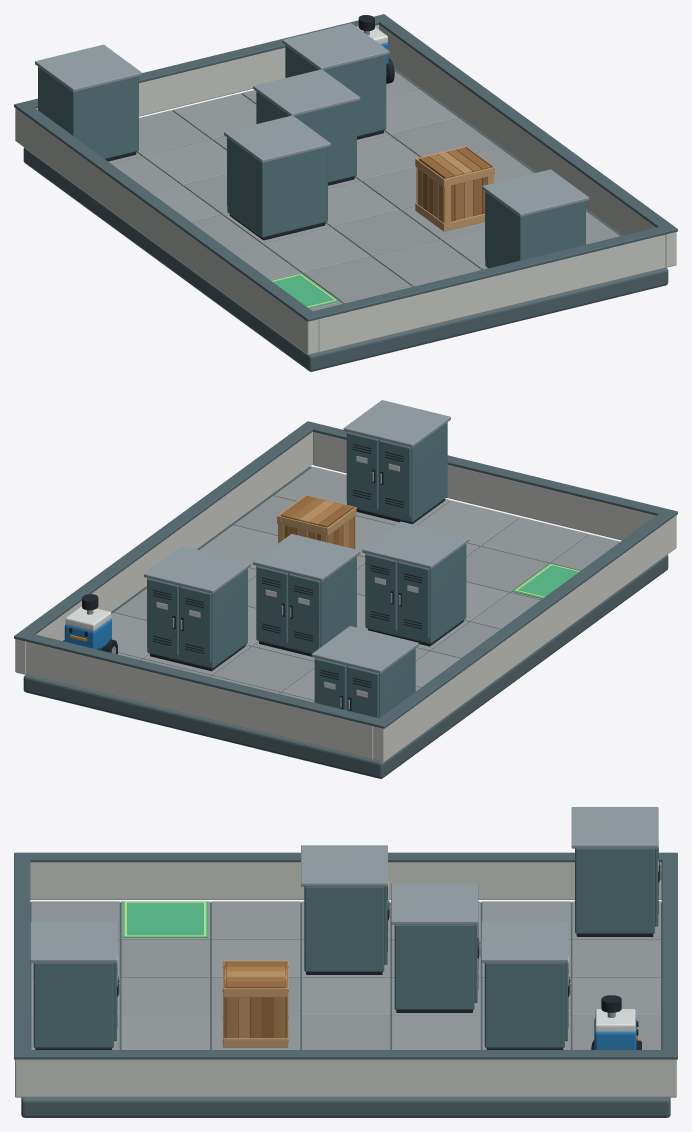
3 views of the same model, one above another, from view 1: azimuth 30°, elevation 25°; view 2: azimuth 150°, elevation 25°; view 3: azimuth 270°, elevation 25° (orthographic). The views are drawn at different scales.
Visible parts, largest first — view 1: Cutaway wall.002, Floor foundation, obstacle_1, Cutaway wall, obstacle_0, Cutaway wall.001, obstacle_3, obstacle_4, obstacle_2, crate, Cutaway wall.003, Wall coping (+26 smaller); view 2: Cutaway wall.003, Floor foundation, obstacle_3, obstacle_1, obstacle_4, obstacle_2, Cutaway wall, Cutaway wall.002, Cutaway wall.001, obstacle_0, Wall coping, Wall coping.001 (+21 smaller); view 3: Cutaway wall.001, Cutaway wall, Floor foundation, obstacle_2, obstacle_0, obstacle_4, obstacle_3, obstacle_1, Wall coping.001, crate, Wall coping, Tile_0_2 (+21 smaller).
Part boxes in pixels (x1,y1,x2,y2): Cutaway wall.002: (318,234,665,352); Floor foundation: (23,69,668,371); obstacle_1: (224,115,330,240); Cutaway wall: (15,108,318,354); obstacle_0: (35,44,142,161); Cutaway wall.001: (379,24,676,267); obstacle_3: (482,169,589,268); obstacle_4: (282,23,389,139); obstacle_2: (253,69,360,185); crate: (415,146,494,231); Cutaway wall.003: (36,25,378,116); Wall coping: (14,101,319,321); Cutaway wall.003: (26,641,373,759); Floor foundation: (23,466,668,778); obstacle_3: (343,400,450,524); obstacle_1: (362,521,469,646); obstacle_4: (144,546,251,671); obstacle_2: (253,534,360,656); Cutaway wall: (373,515,676,762); Cutaway wall.002: (313,432,655,540); Cutaway wall.001: (15,432,312,674); obstacle_0: (311,626,418,718); Wall coping: (372,508,677,728); Wall coping.001: (14,421,318,641); Cutaway wall.001: (15,1059,676,1097); Cutaway wall: (30,862,661,899); Floor foundation: (21,902,670,1117); obstacle_2: (391,883,481,1012); obstacle_0: (571,807,661,936); obstacle_4: (481,921,571,1049); obstacle_3: (30,921,120,1049); obstacle_1: (301,845,390,974); Wall coping.001: (14,1050,677,1059); crate: (222,960,288,1047); Wall coping: (14,852,677,862); Tile_0_2: (211,901,300,939).
Size of the model in its own units: 5.36 by 1.44 by 7.36.
